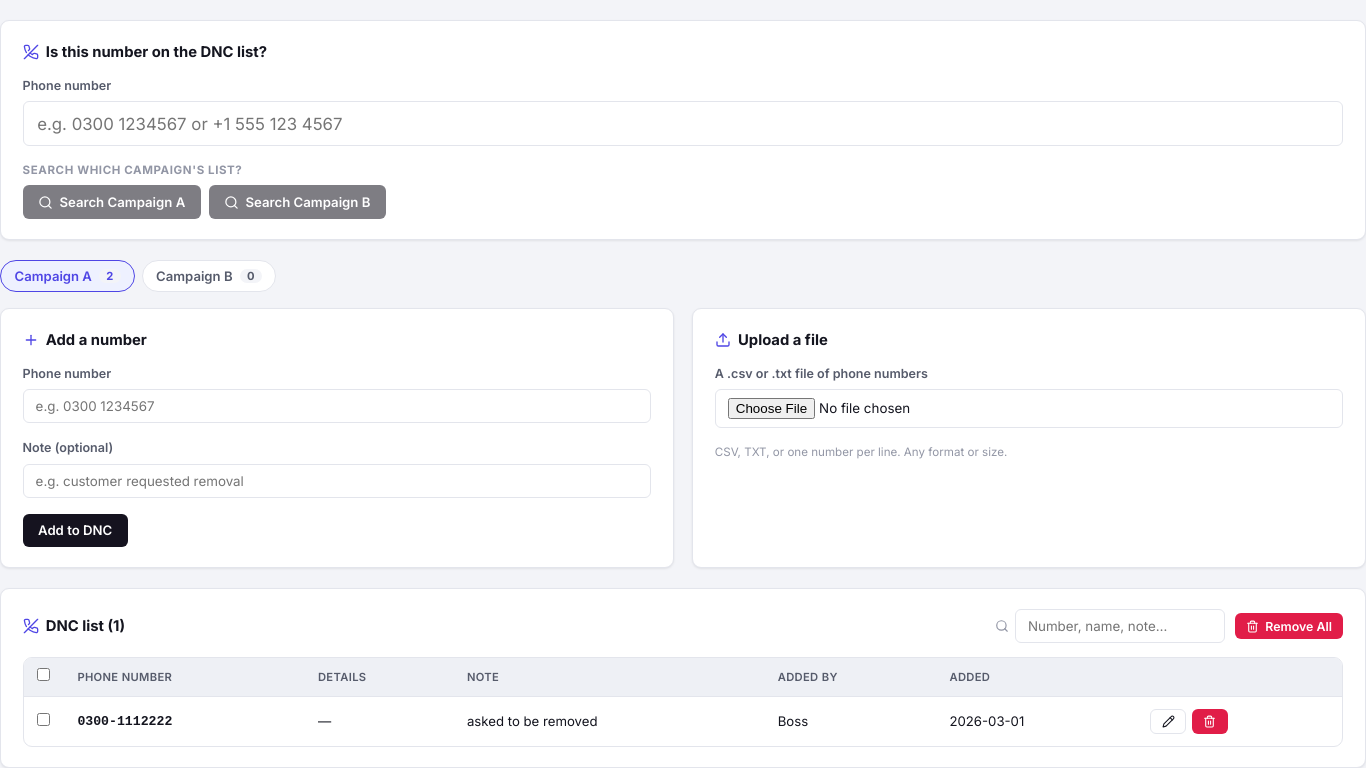
Test case: DncManagement › shows why an edit was refused (it would list the number twice)
The image size is (1366, 768).
(page scrolled)
Expected: the text "0300-1112222" is shown, [64,697,304,746]
Click the button named "edit 0300-1112222". click: (1168, 722)
box: [1150,709,1186,734]
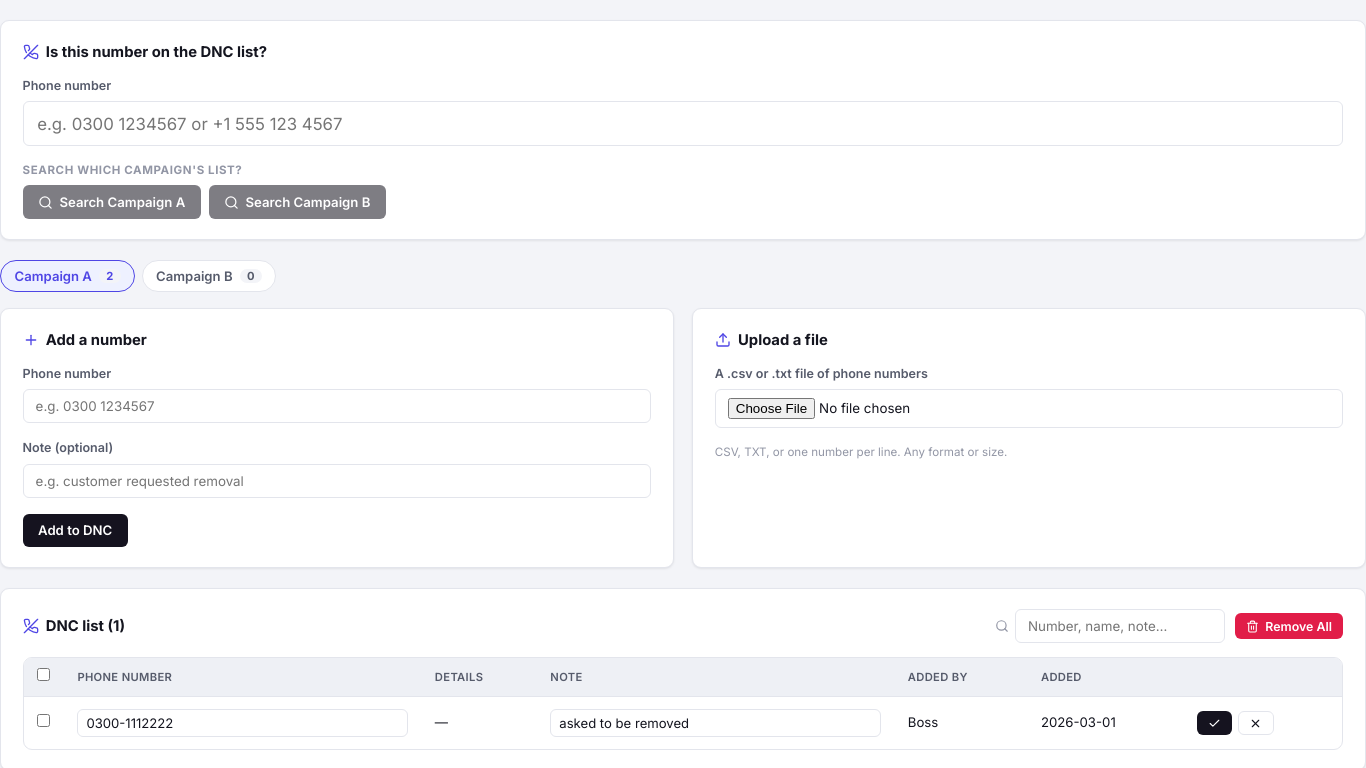
Click the button named "save changes to 0300-1112222". click: (1215, 723)
box: [1197,711,1232,735]
(page scrolled)
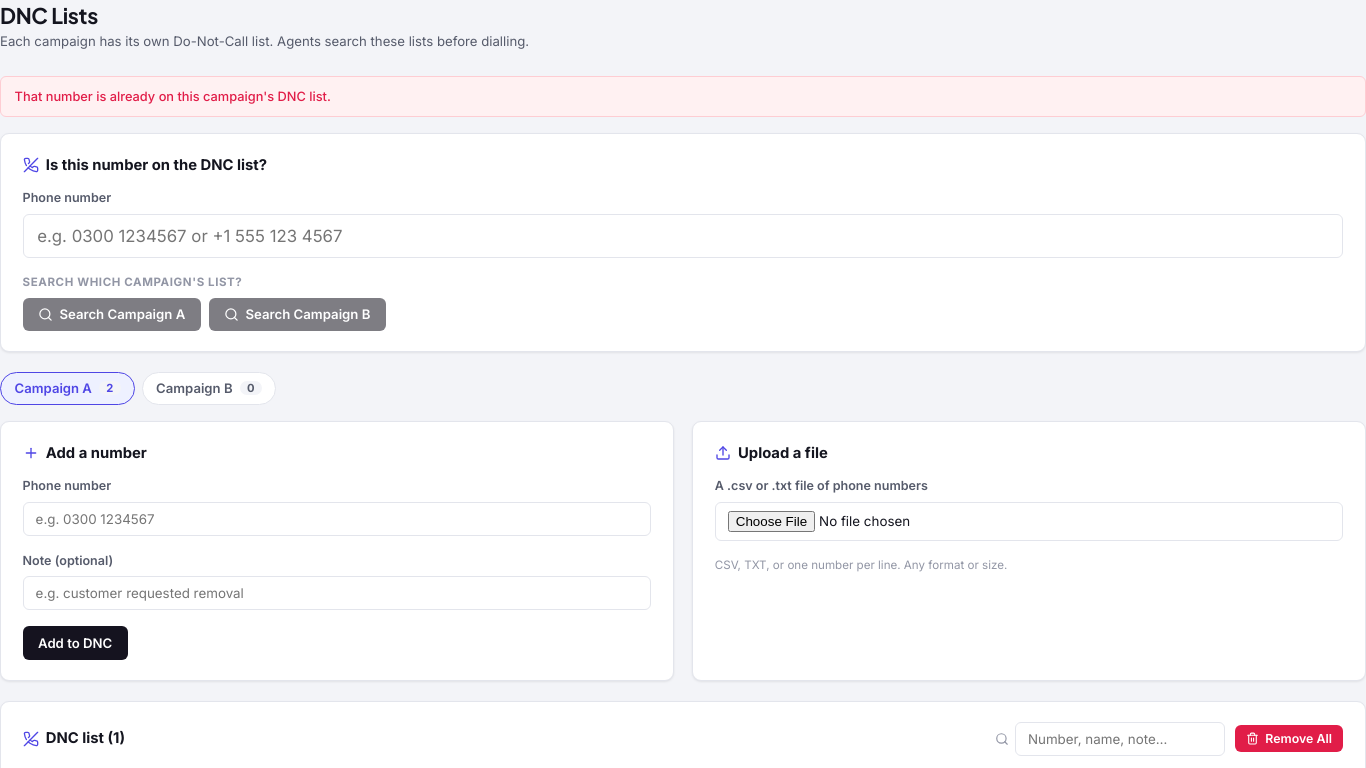
Expected: the message shows "already on this campaign", [15,89,331,104]
